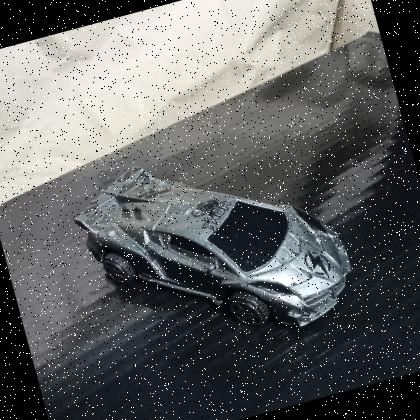Car: (59, 112, 370, 383)
